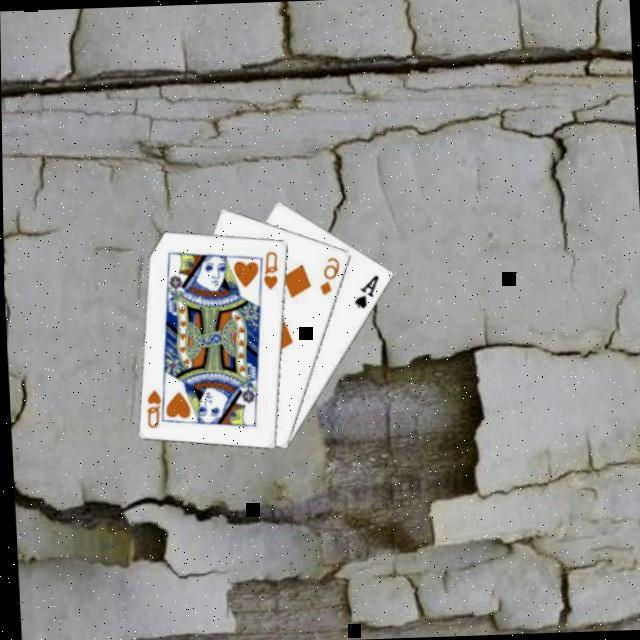6D: (315, 254, 344, 299)
AS: (351, 272, 384, 314)
QH: (142, 383, 170, 432), (258, 249, 282, 294)
